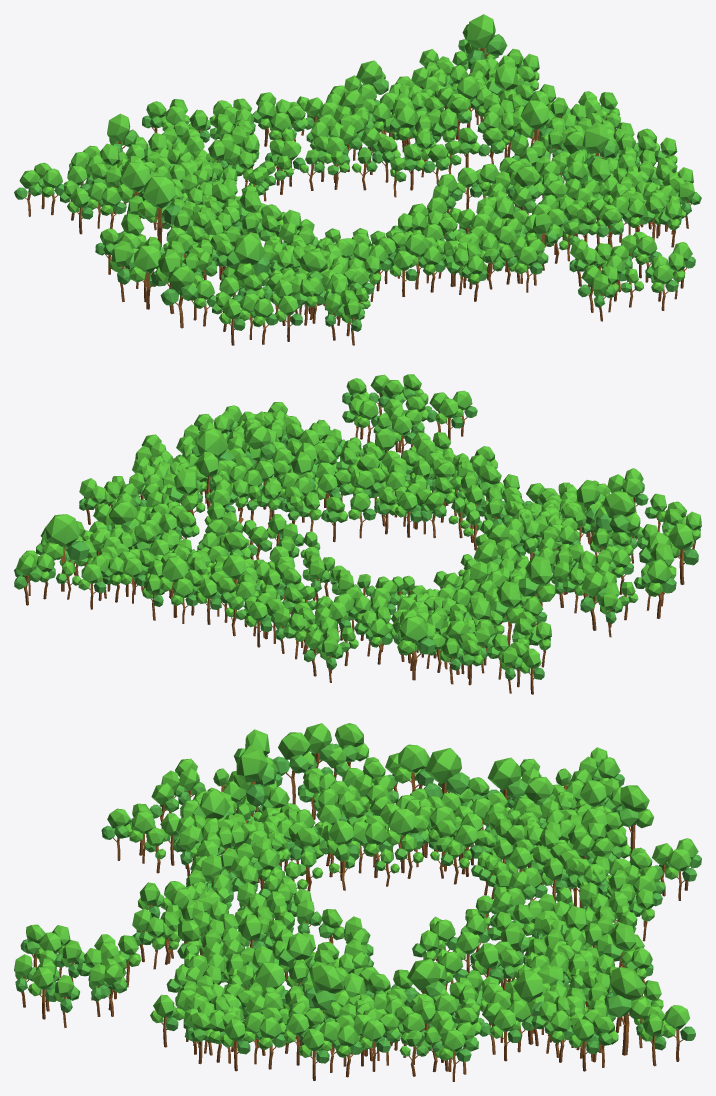
Rendered from SM_Forest.fbx.
The picture shows the model from 3 angles, top to bottom: view 1: azimuth 30°, elevation 25°; view 2: azimuth 150°, elevation 25°; view 3: azimuth 270°, elevation 25°; orthographic projection. The views are drawn at different scales.
Parts seen in each view (by area): view 1: Sphere.139, Sphere.333, Sphere.068, Sphere.332, Sphere.474, Sphere.002, Sphere.009, Sphere.237, Sphere.475, Sphere.075, Sphere.119, Sphere.543 (+37 smaller); view 2: Sphere.068, Sphere.333, Sphere.139, Sphere.119, Sphere.475, Sphere.237, Sphere.332, Sphere.002, Sphere.009, Sphere.480, Sphere.336, Sphere.228 (+38 smaller); view 3: Sphere.068, Sphere.333, Sphere.139, Sphere.009, Sphere.473, Sphere.119, Sphere.237, Sphere.480, Sphere.002, Sphere.075, Sphere.088, Sphere.475 (+59 smaller).
Part boxes in pixels (x1,y1,x2,y2): Sphere.139: (137, 175, 181, 246); Sphere.333: (226, 233, 270, 280); Sphere.068: (466, 14, 507, 69); Sphere.332: (160, 265, 197, 328); Sphere.474: (129, 245, 166, 309); Sphere.002: (515, 100, 552, 141); Sphere.009: (582, 122, 619, 166); Sphere.237: (116, 161, 150, 201); Sphere.475: (110, 240, 135, 301); Sphere.075: (486, 63, 517, 101); Sphere.119: (107, 113, 139, 151); Sphere.543: (389, 105, 418, 145); Sphere.068: (42, 514, 89, 591); Sphere.333: (596, 490, 640, 532); Sphere.139: (518, 556, 555, 625); Sphere.119: (397, 616, 435, 680); Sphere.475: (641, 559, 676, 618); Sphere.237: (490, 581, 523, 646); Sphere.332: (667, 523, 698, 584); Sphere.002: (165, 468, 198, 511); Sphere.009: (191, 428, 234, 492); Sphere.480: (580, 571, 609, 630); Sphere.336: (575, 480, 605, 544); Sphere.228: (160, 557, 194, 617); Sphere.068: (604, 967, 650, 1055); Sphere.333: (234, 745, 276, 816); Sphere.139: (423, 748, 469, 797); Sphere.009: (304, 964, 349, 1012); Sphere.473: (272, 732, 314, 804); Sphere.119: (614, 785, 653, 856); Sphere.237: (484, 757, 527, 799); Sphere.480: (394, 744, 433, 791); Sphere.002: (405, 959, 446, 1007); Sphere.075: (510, 970, 545, 1044); Sphere.088: (386, 808, 423, 873); Sphere.475: (334, 723, 369, 767).
Bounding box in the file's own units: 6289 × 6056 × 877.
